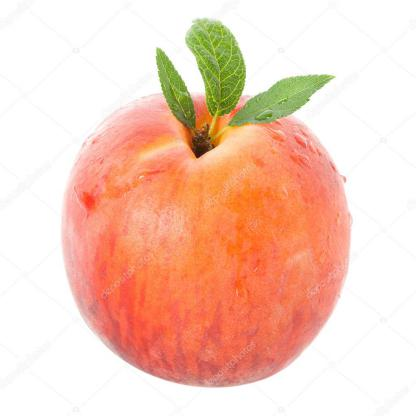peach leaf: (219, 67, 345, 141), (184, 12, 239, 123), (148, 40, 205, 142)
